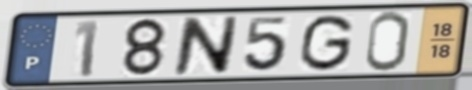0: (364, 9, 412, 74)
1: (73, 18, 102, 79)
5: (239, 15, 293, 74)
8: (120, 15, 172, 80)
G: (296, 12, 357, 74)
N: (170, 15, 242, 77)
